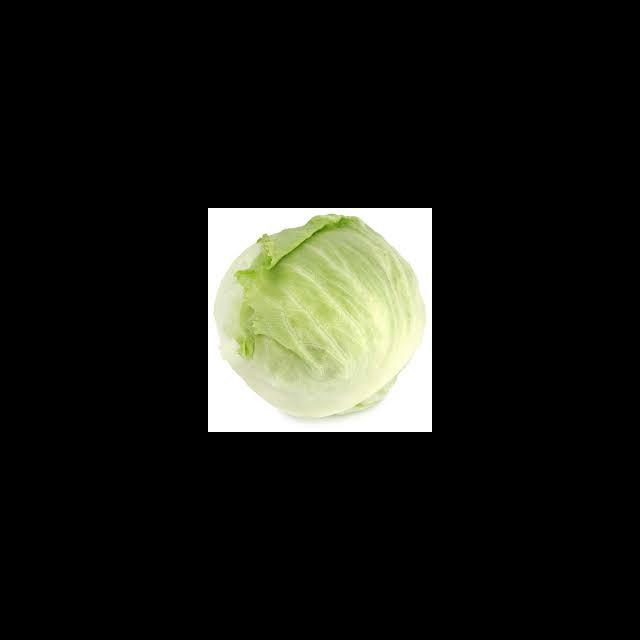cabbage: (214, 217, 428, 422)
